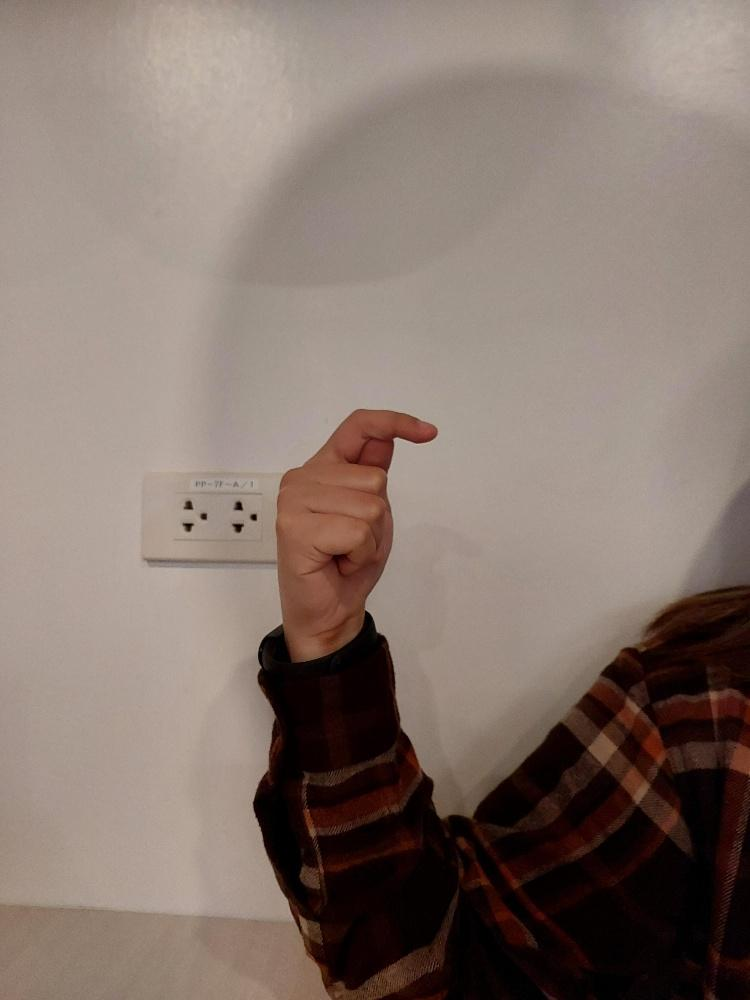t: (270, 403, 440, 641)
